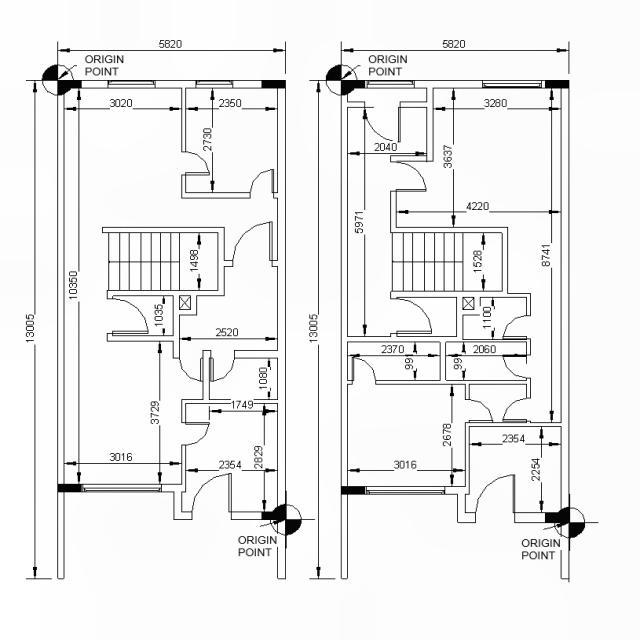Column: (544, 512, 570, 524), (340, 486, 366, 495), (340, 80, 366, 88), (544, 80, 570, 88), (261, 80, 286, 88), (57, 484, 82, 492), (58, 80, 82, 88), (262, 512, 286, 520)
Door: (475, 474, 515, 524), (232, 221, 272, 267), (192, 474, 232, 520), (390, 298, 432, 334), (107, 298, 148, 334), (364, 102, 400, 142), (391, 162, 426, 191), (180, 349, 203, 382), (211, 350, 235, 381), (250, 169, 274, 198), (182, 152, 210, 176), (352, 357, 376, 385), (502, 316, 531, 339), (182, 422, 210, 445), (503, 398, 531, 421), (464, 400, 492, 422), (502, 356, 530, 378)
Staircase: (102, 232, 218, 290), (390, 232, 502, 292)
Window: (82, 484, 162, 492), (366, 486, 444, 494), (482, 80, 542, 88), (108, 80, 156, 88), (367, 80, 415, 88), (196, 80, 233, 88), (527, 84, 528, 85)
